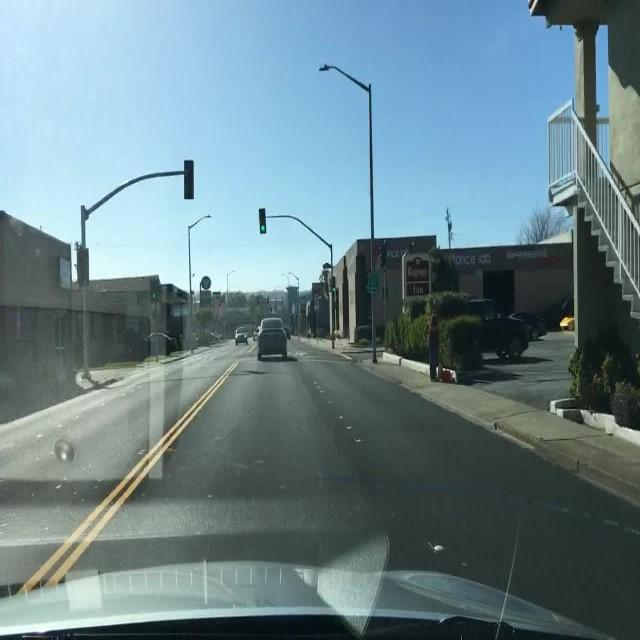normal: (243, 303, 302, 375), (513, 313, 549, 343)
